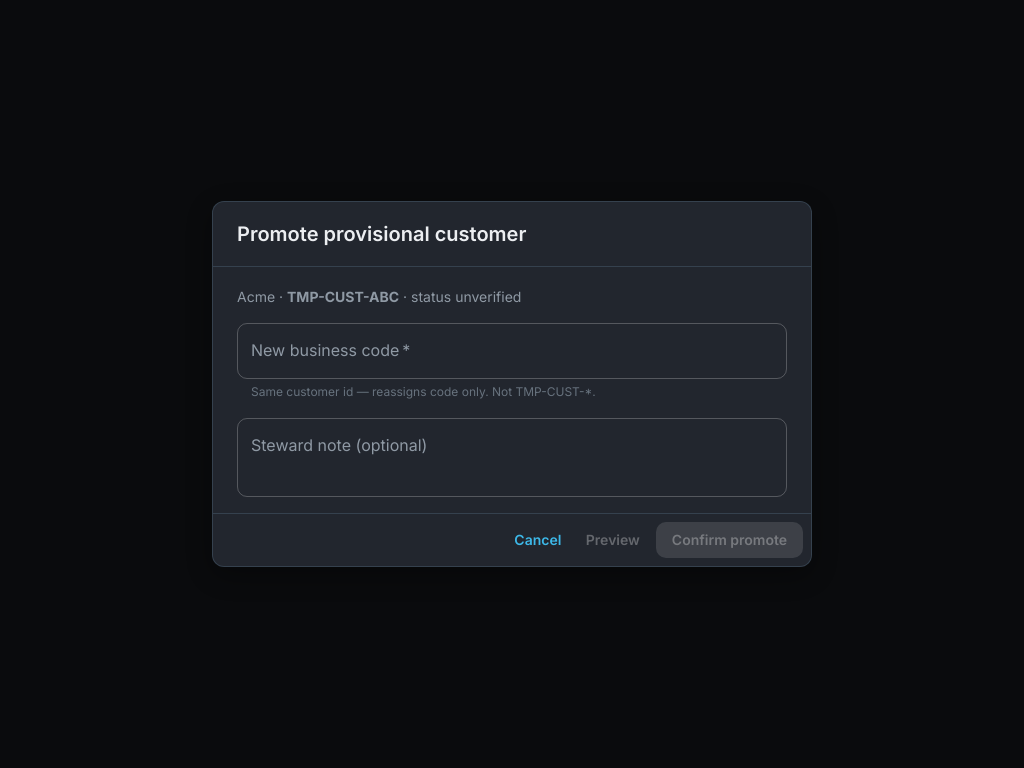
Test: CustomerPromoteDialog › preview shows both warnings and keeps confirm disabled until ack
The image size is (1024, 768).
Type "ACME-001" into the field with test id "promote-new-code" at (512, 351), box [237,323,787,379]
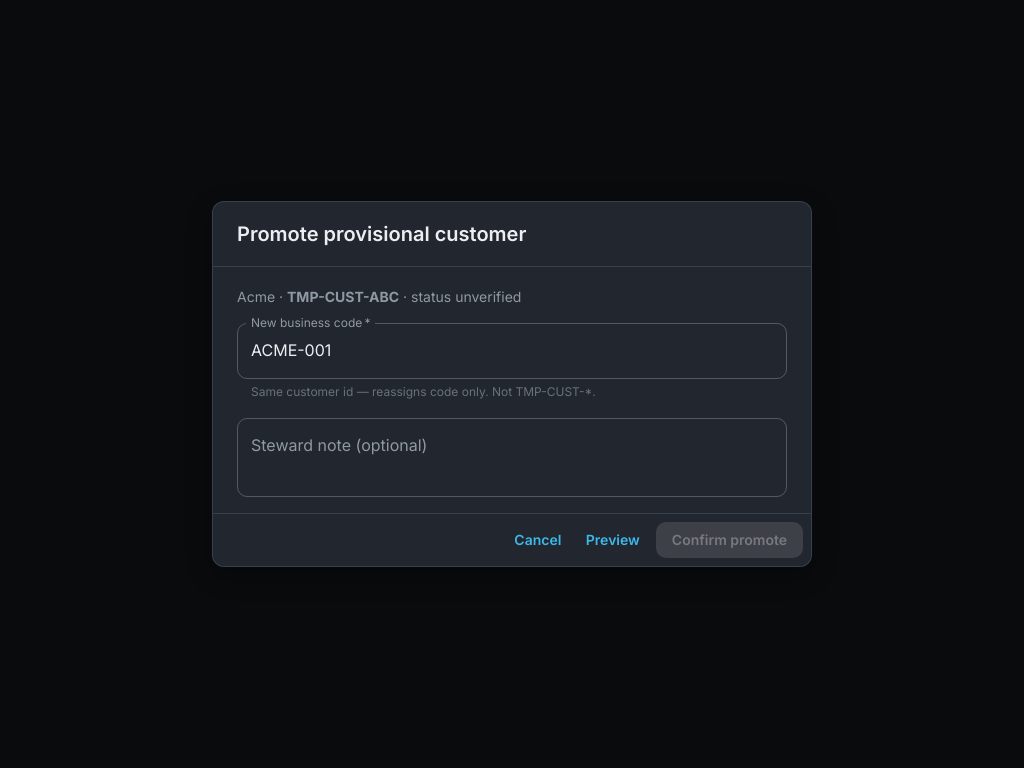
Click the button with test id "promote-preview-btn" at (613, 540), box [578,522,648,558]
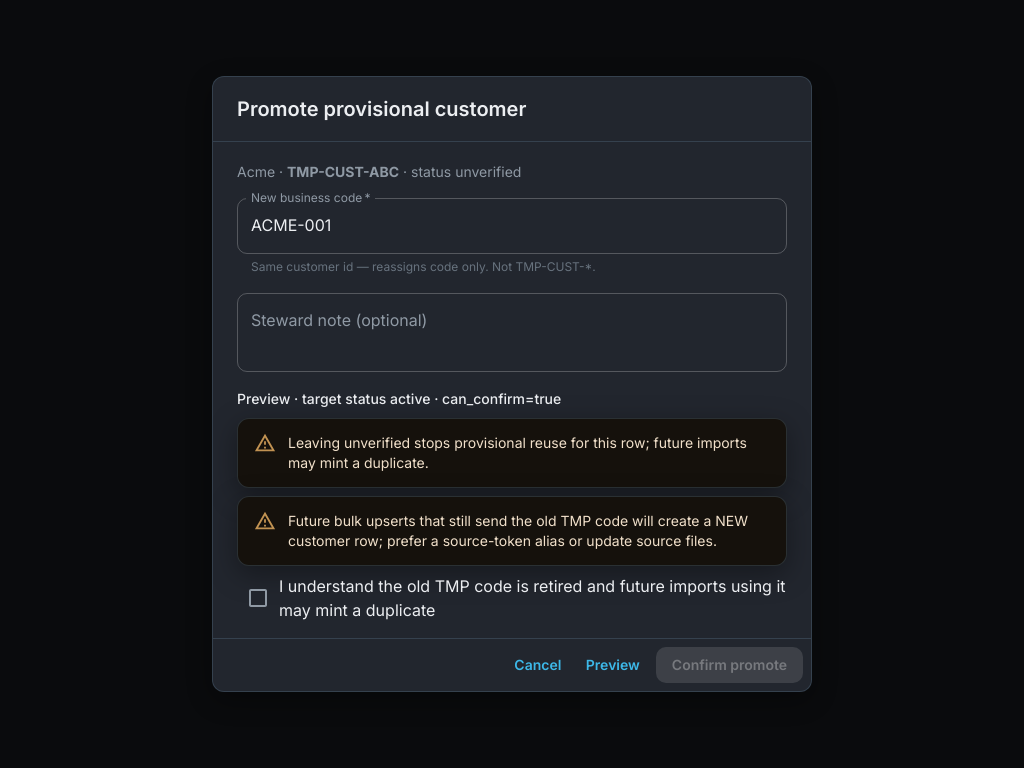
Expected: the button with test id "promote-confirm-btn" is disabled, [656,647,803,683]
Expected: the element with test id "promote-preview" is shown, [237,388,787,622]
Expected: the number of messages with test id "promote-warning" is 2, [237,418,787,488]; [237,496,787,566]
Click the element with test id "promote-ack" at (258, 598), box [246,586,270,610]
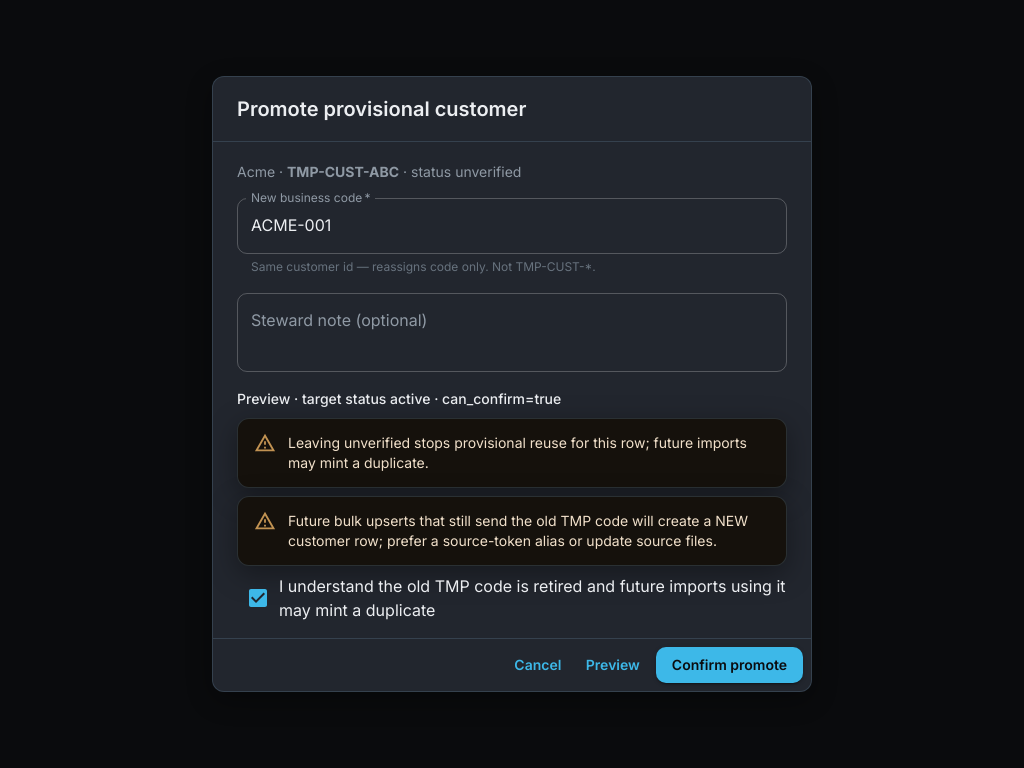
Expected: the button with test id "promote-confirm-btn" is enabled, [656,647,803,683]
